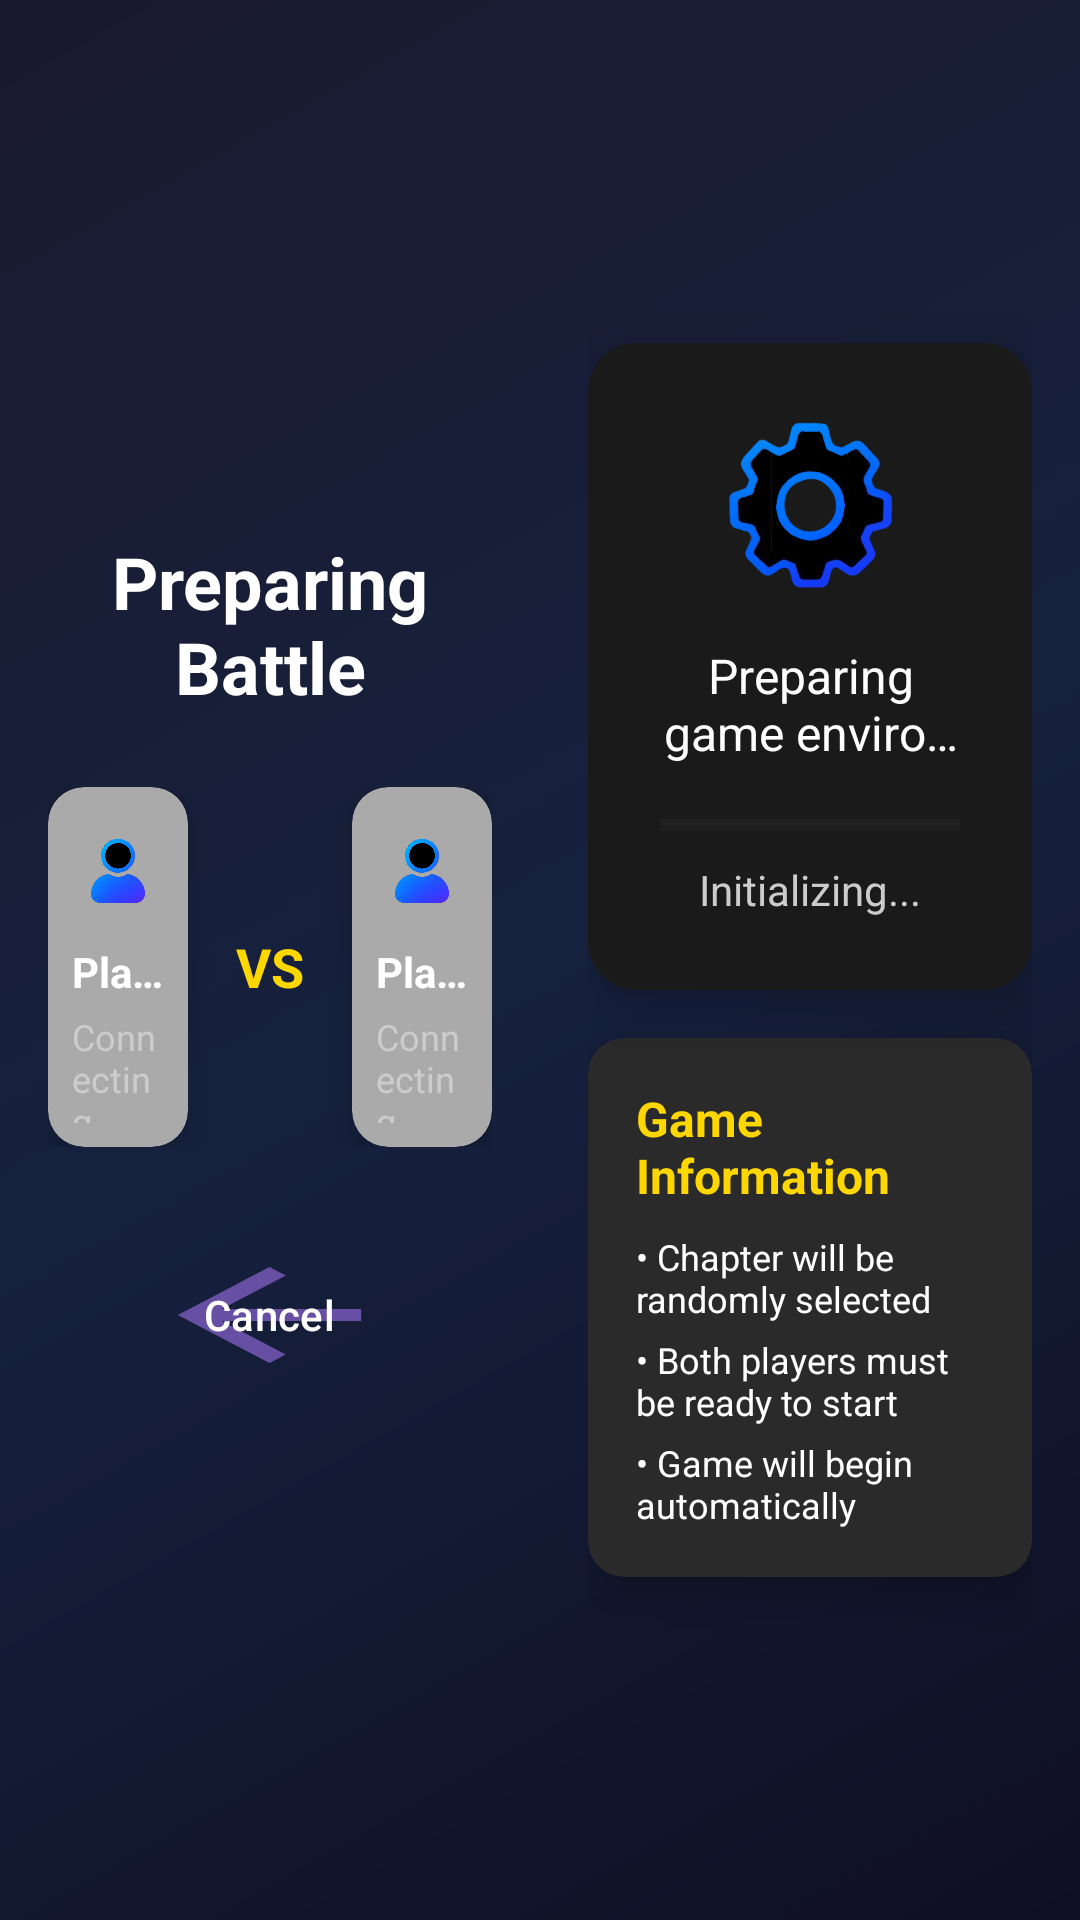

Screen size 1080px x 1920px. Icon name, then its center in pixels as [x,y]:
whoi gear: [811,505]
whoi profile: [118,871], [422,871]
